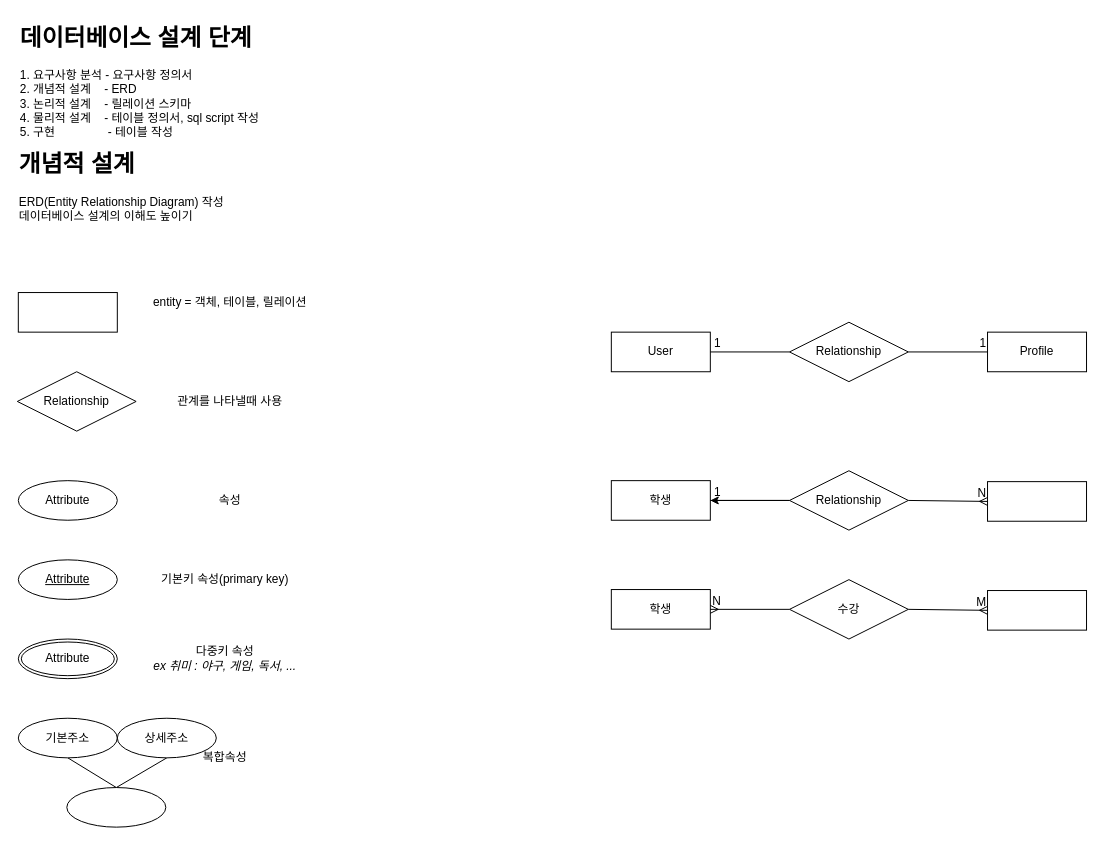
Image size: 1104x844. Some labels were removed from this diagram. Here are the shapes that lost their labels. From the top down, the centre of each, then its label:
At (x=67, y=312): "Entity".
At (x=1037, y=501): "학과".
At (x=1037, y=610): "과목".
At (x=116, y=807): "배송지".
